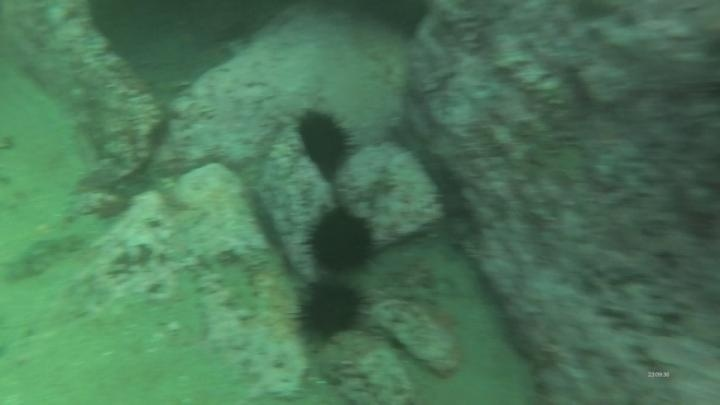echinus: (302, 202, 381, 278), (291, 275, 370, 346), (292, 105, 358, 181)
holothurian: (1, 228, 88, 286)
